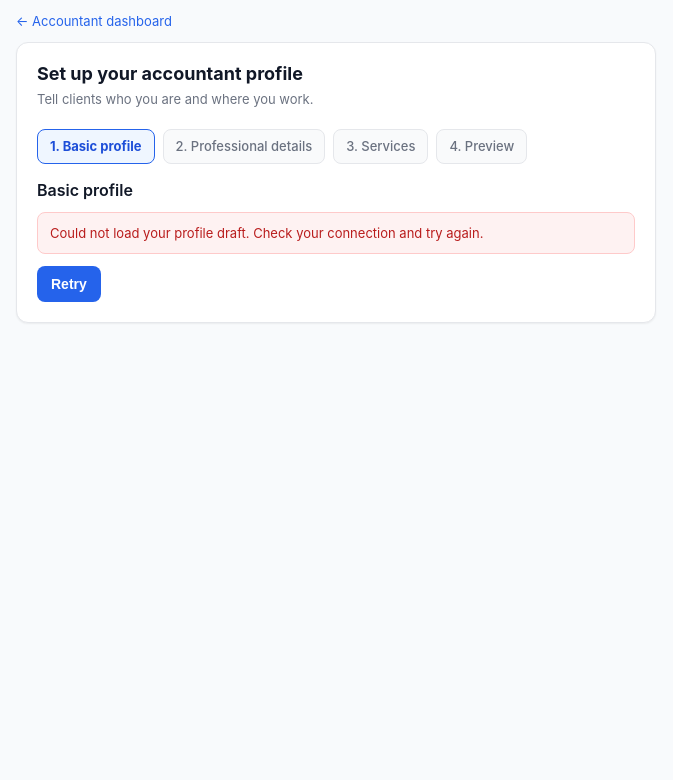
Test: load failure shows retryable error
Expected: the text "Could not load your profile draft. Check your connection and try again." is shown, [37, 212, 635, 254]
Click the button "Retry" at (69, 284), box [37, 266, 101, 302]
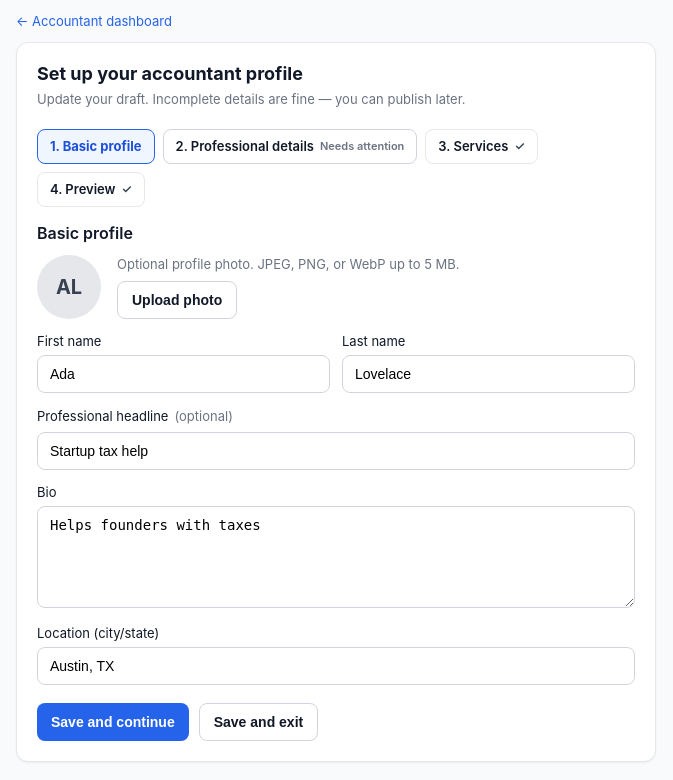
Expected: the field showing "Startup tax help" is shown, [37, 432, 635, 470]
